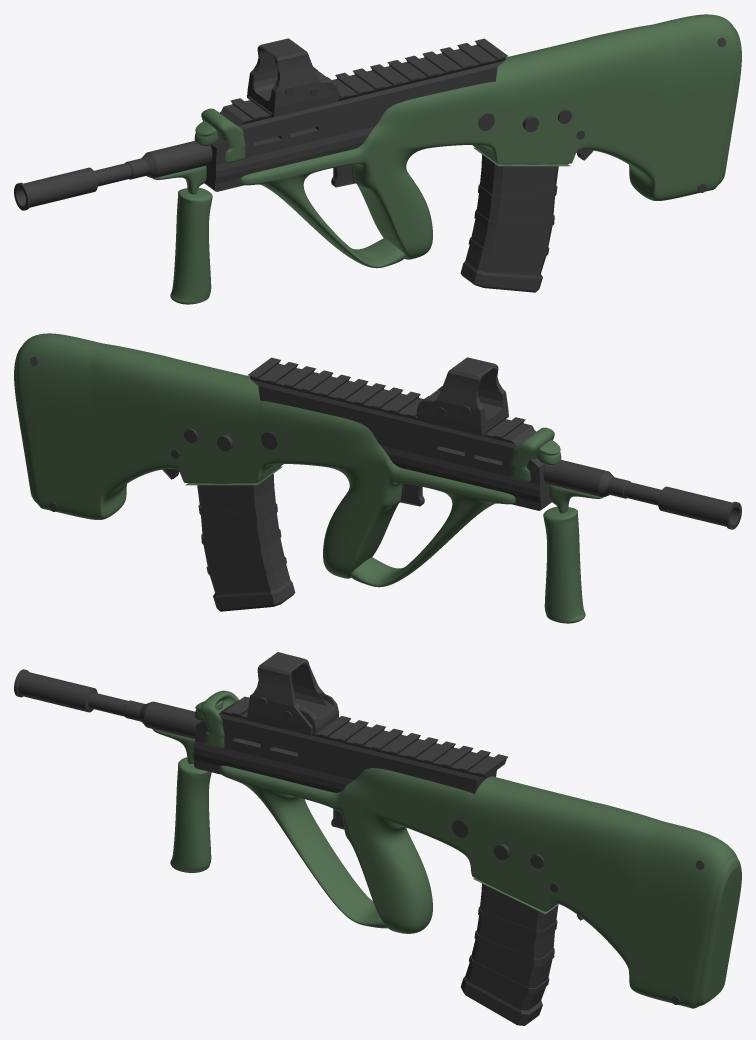
The model's file is SteyrAUG_M1.fbx.
The picture shows the model from 3 angles, top to bottom: view 1: azimuth 30°, elevation 25°; view 2: azimuth 150°, elevation 25°; view 3: azimuth 330°, elevation 25°; orthographic projection.
Parts seen in each view (by area): view 1: Cube, Cube.001; view 2: Cube, Cube.001; view 3: Cube, Cube.001.
Boxes of the visible parts, <box> form: Cube: <box>153,14,741,304</box>; Cube.001: <box>14,37,726,292</box>; Cube: <box>14,333,602,623</box>; Cube.001: <box>30,356,741,611</box>; Cube: <box>152,690,741,1008</box>; Cube.001: <box>14,652,704,1025</box>.
Size of the model in its own units: 73.23 by 964 by 386.
